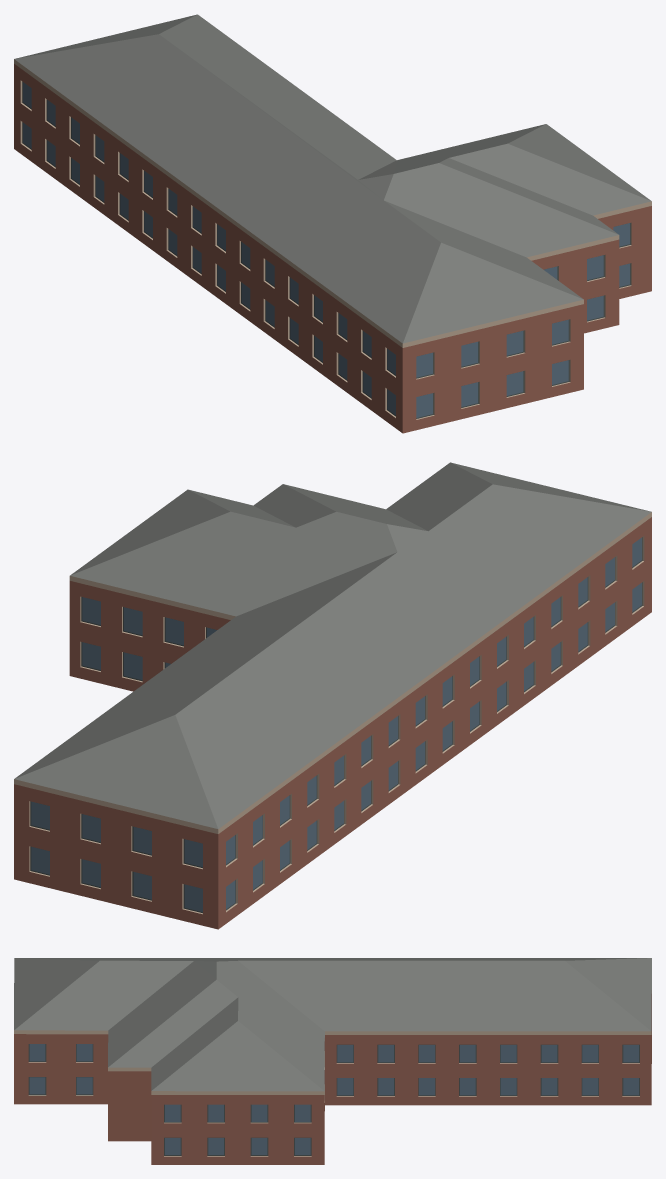
The model's file is dc-au-gray-hall.detail.glb.
3 renders of one model, top to bottom at view 1: azimuth 30°, elevation 25°; view 2: azimuth 150°, elevation 25°; view 3: azimuth 270°, elevation 25°, orthographic. The views are drawn at different scales.
Visible parts, largest first — view 1: Gray Hall; view 2: Gray Hall; view 3: Gray Hall.
Part boxes in pixels (x1=…): Gray Hall: x1=14, y1=14, x2=651, y2=433; Gray Hall: x1=14, y1=462, x2=651, y2=929; Gray Hall: x1=14, y1=958, x2=651, y2=1164.
Size of the model in its own units: 24.78 by 10.06 by 50.16.
